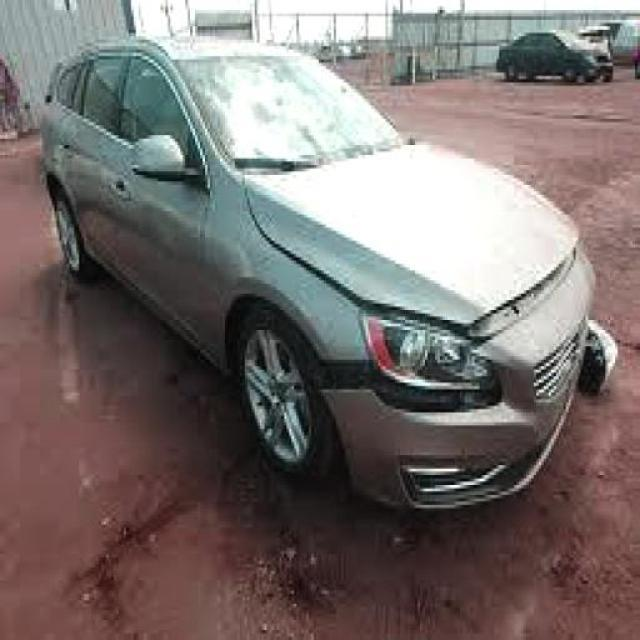car damage: (261, 222, 578, 430)
